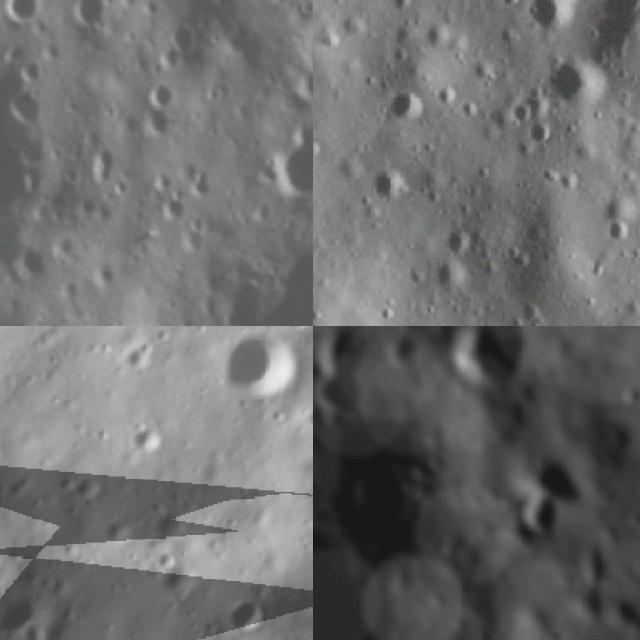crater: (0, 73, 57, 233), (207, 326, 310, 412), (313, 560, 419, 640), (534, 40, 618, 124), (351, 452, 431, 526), (448, 326, 536, 391), (0, 575, 63, 640), (266, 123, 313, 206), (313, 366, 373, 429), (56, 452, 116, 512), (213, 584, 275, 640), (122, 414, 180, 471), (518, 0, 584, 46), (530, 452, 587, 504), (4, 79, 54, 133), (523, 486, 571, 539), (368, 162, 417, 212), (313, 326, 367, 371), (382, 81, 431, 129), (429, 257, 477, 303), (242, 609, 313, 640), (417, 16, 462, 62), (436, 220, 479, 263), (165, 16, 202, 65), (598, 213, 640, 256), (140, 71, 186, 109), (142, 100, 176, 150), (520, 115, 560, 154), (82, 137, 119, 179), (504, 93, 542, 130), (431, 76, 467, 114), (71, 0, 108, 25), (2, 0, 41, 22), (620, 376, 640, 414), (385, 0, 420, 20), (313, 133, 332, 164), (494, 0, 529, 16), (294, 66, 313, 95)
